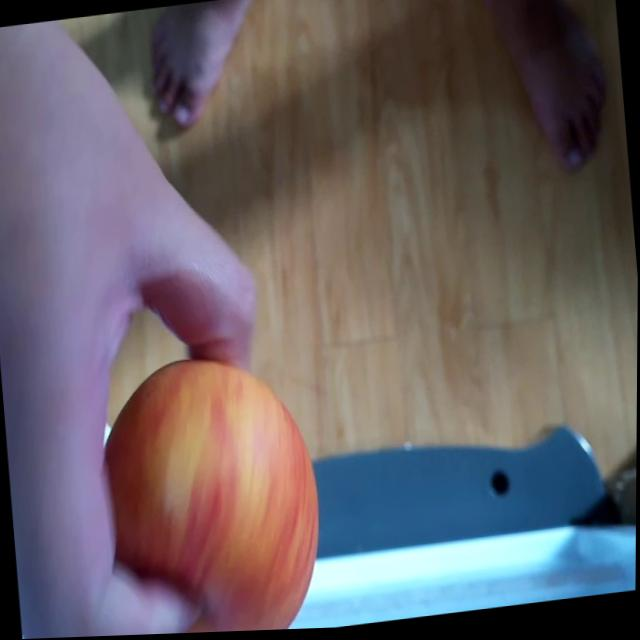apple: (99, 345, 331, 637)
